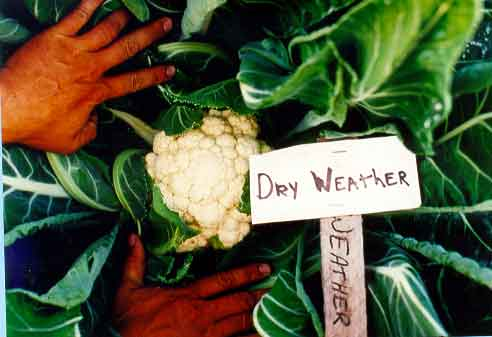cauliflower: (145, 109, 275, 253)
